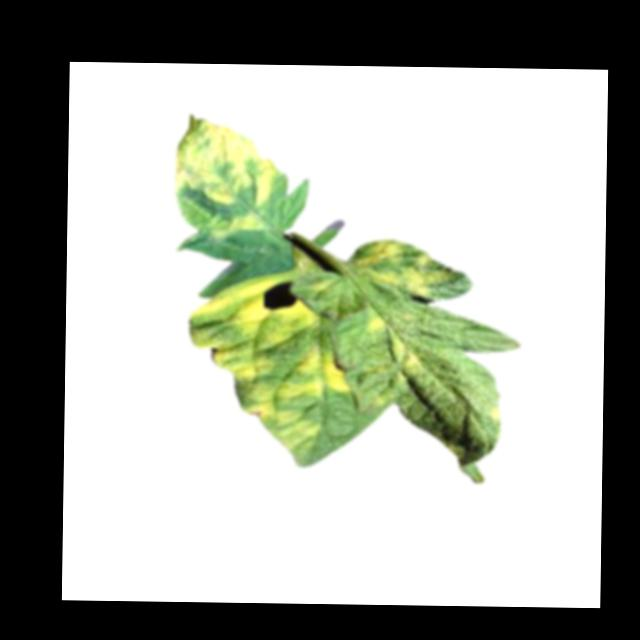Leaf_Mold: (171, 114, 286, 241), (184, 278, 318, 380), (356, 237, 455, 298), (358, 315, 424, 390), (235, 399, 321, 453), (276, 345, 354, 402)
